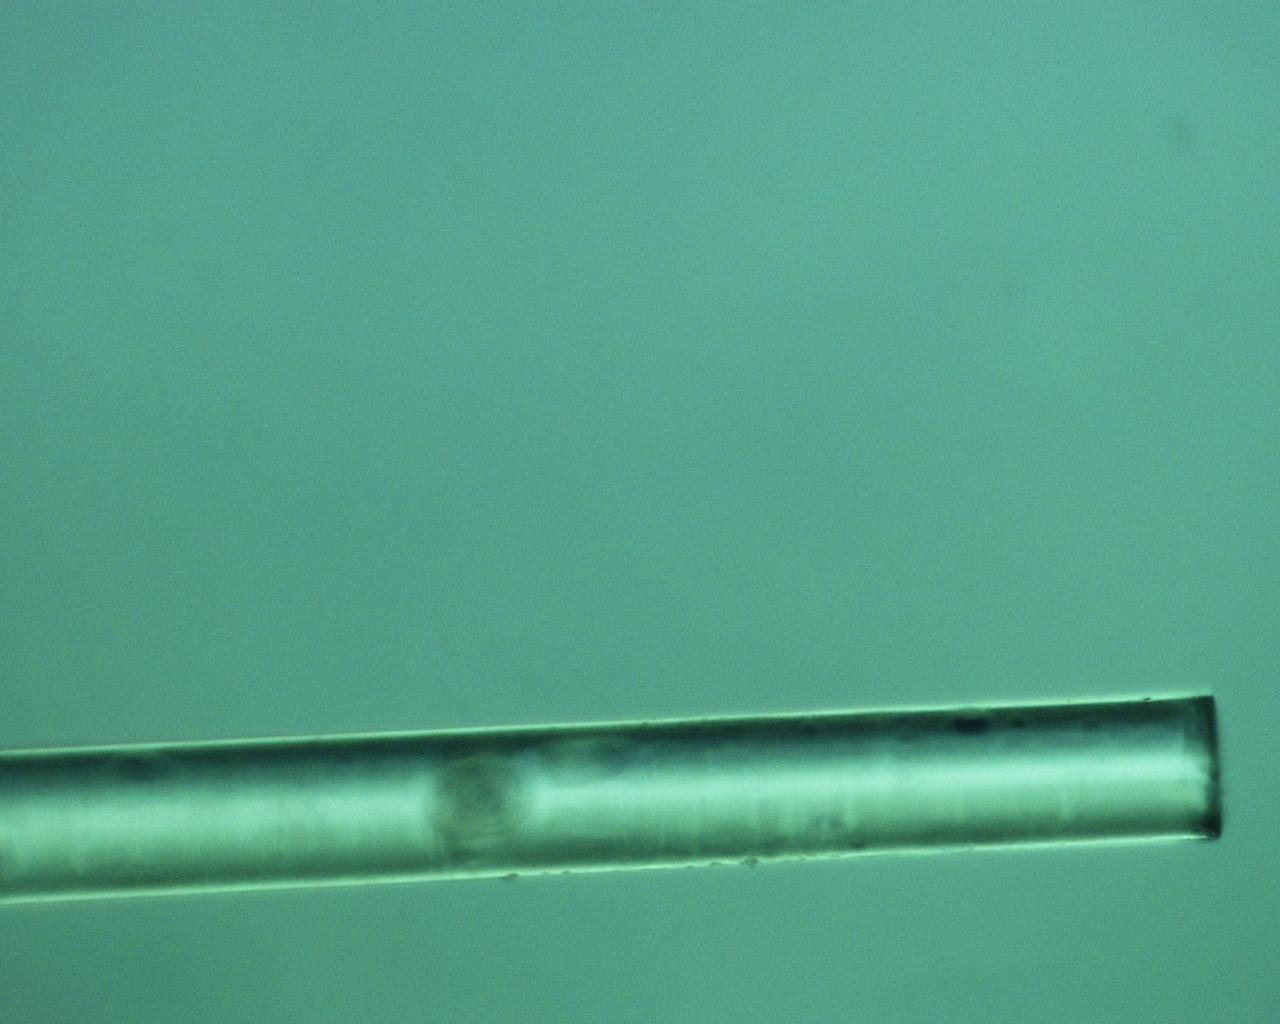fiber: (0, 690, 1227, 906)
